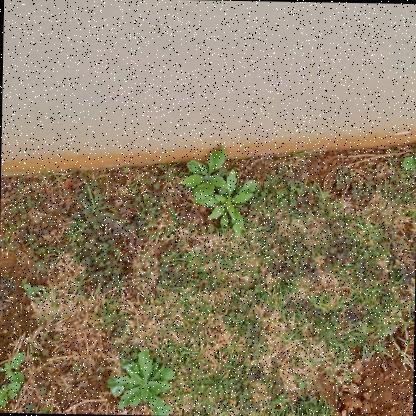Weeds: (107, 346, 177, 415), (193, 168, 258, 237), (181, 144, 228, 202), (0, 350, 27, 386), (0, 380, 19, 409), (20, 282, 40, 298)
